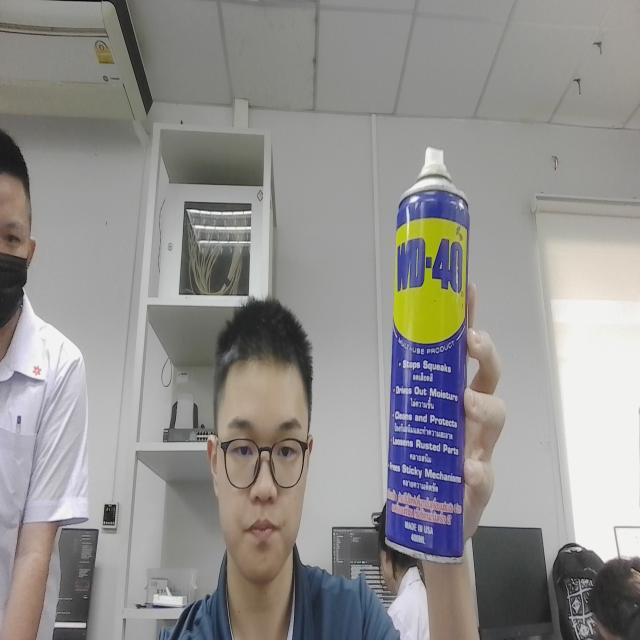wd-40: (368, 119, 488, 581)
